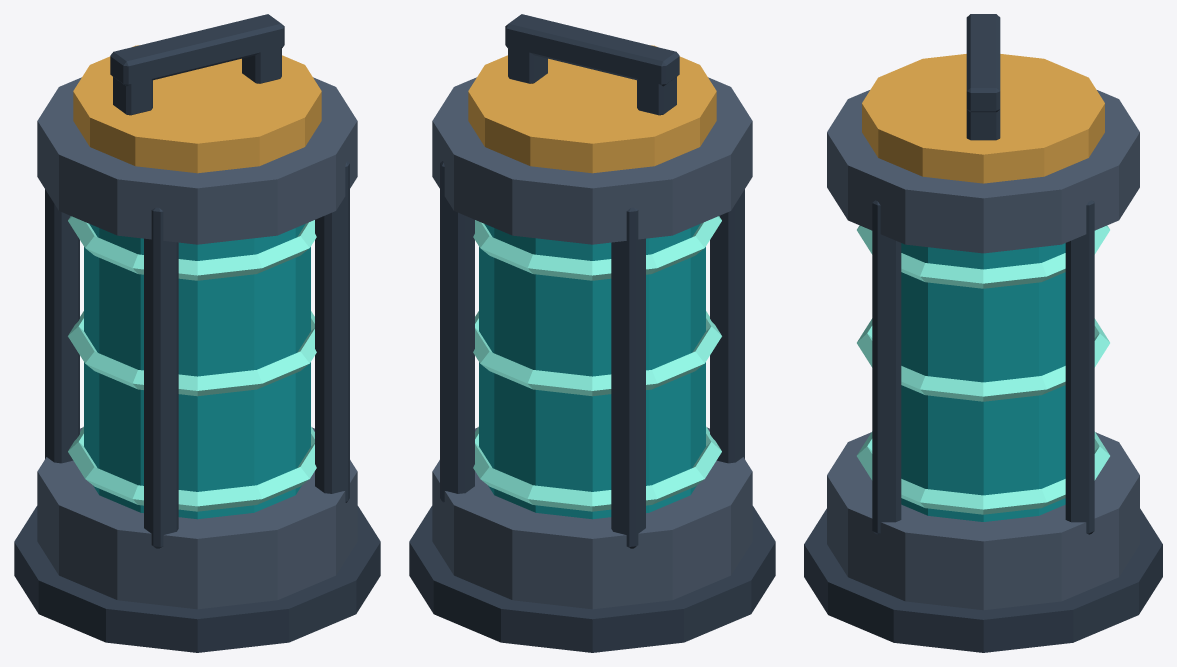
The model's file is 02_Reactor_Cell.glb.
3 renders of one model, left to right at view 1: azimuth 30°, elevation 25°; view 2: azimuth 150°, elevation 25°; view 3: azimuth 270°, elevation 25°, orthographic. The views are drawn at different scales.
Parts seen in each view (by area): view 1: 02_Reactor_Cell__Body; view 2: 02_Reactor_Cell__Body; view 3: 02_Reactor_Cell__Body.
Boxes of the visible parts, bbox=[...] form: 02_Reactor_Cell__Body: bbox=[14, 14, 380, 652]; 02_Reactor_Cell__Body: bbox=[409, 14, 775, 652]; 02_Reactor_Cell__Body: bbox=[804, 14, 1162, 652].
Size of the model in its own units: 2.36 by 3.82 by 2.36.
Materials: 1 (1 with a texture image).
